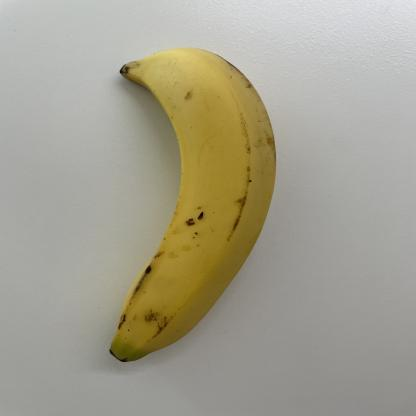banana: (101, 40, 278, 365)
